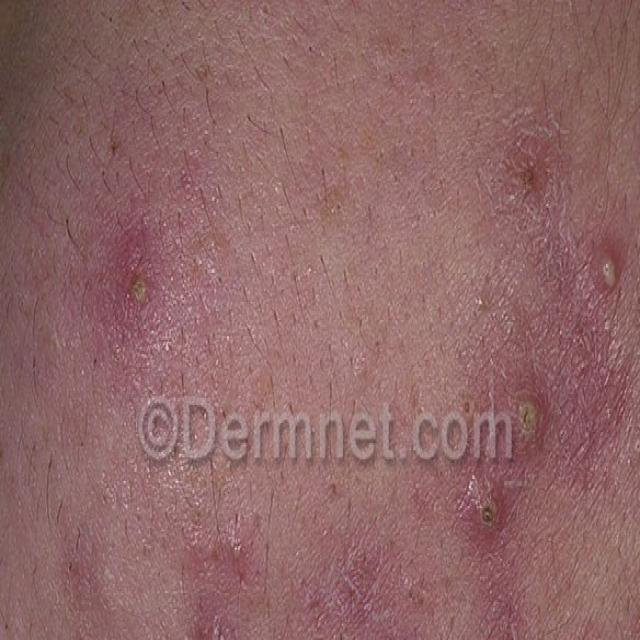Acne: (526, 108, 640, 313), (464, 336, 565, 543), (102, 192, 174, 349)
